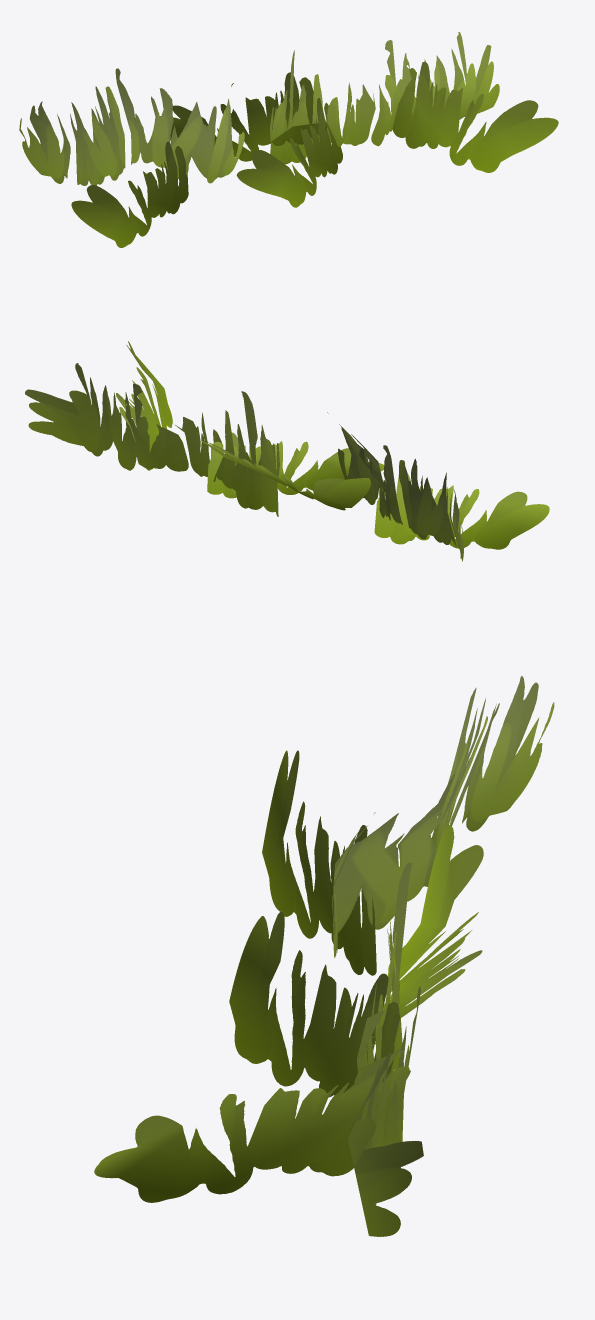
The model's file is Mod_Grass01.fbx.
3 views of the same model, one above another, from view 1: azimuth 30°, elevation 25°; view 2: azimuth 150°, elevation 25°; view 3: azimuth 270°, elevation 25° (orthographic). The views are drawn at different scales.
Parts seen in each view (by area): view 1: polySurface24; view 2: polySurface24; view 3: polySurface24.
Boxes of the visible parts, x1,y1,x2,y2 form: polySurface24: (19,32,558,247); polySurface24: (25,341,549,561); polySurface24: (94,675,554,1236).
Size of the model in its own units: 180 by 54.77 by 85.98.
